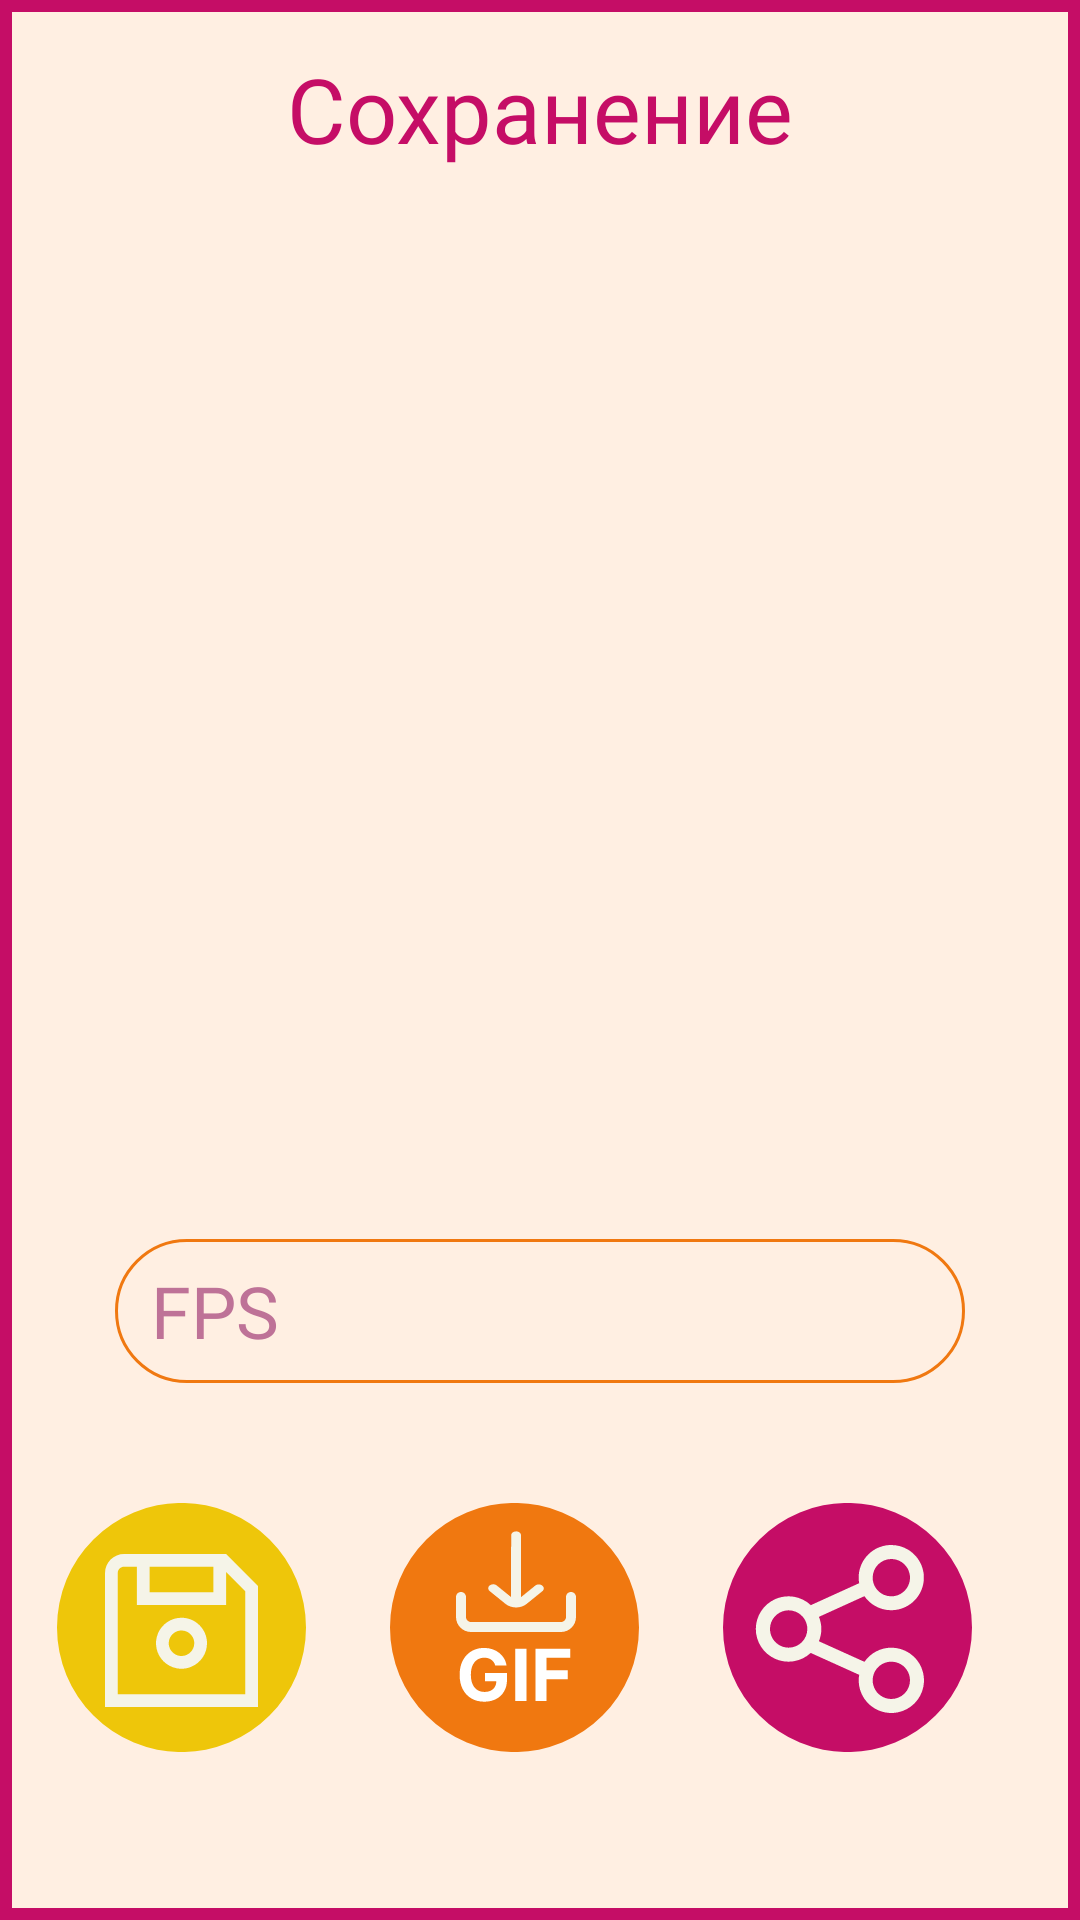

Icon click points for this 1080*1920 phone screenshot, format (x,y):
saveasgifbutton: (514,1627)
saveprojecttodb: (181,1627)
sharebutton: (847,1627)
